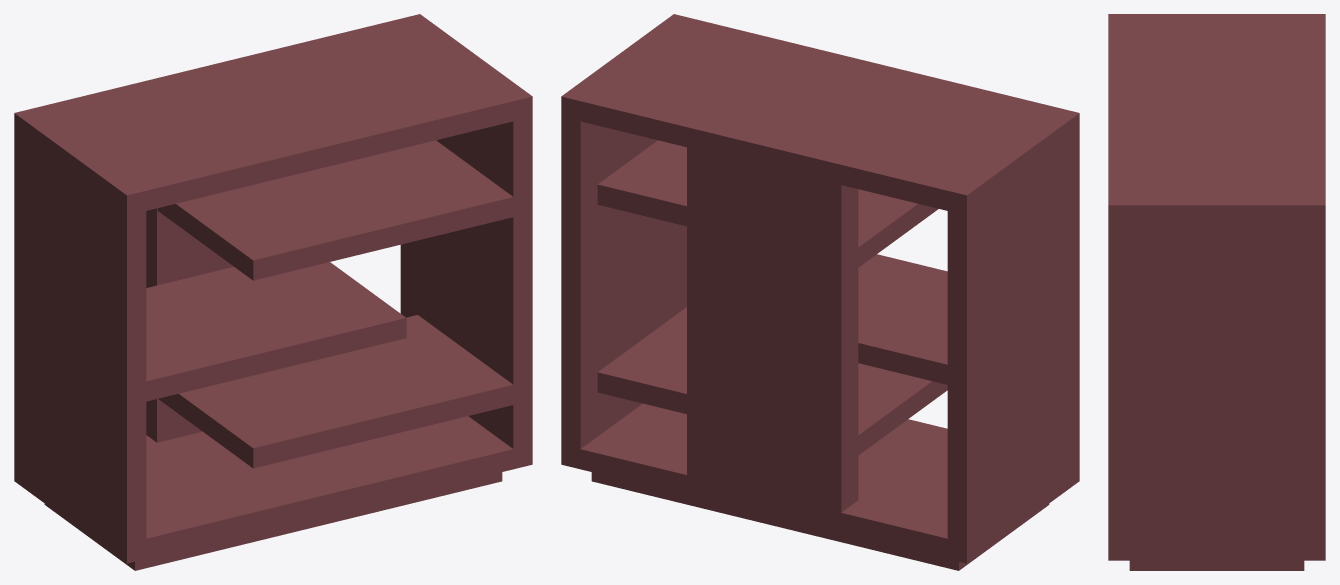
File: Shelf.FBX
The picture shows the model from 3 angles, left to right: view 1: azimuth 30°, elevation 25°; view 2: azimuth 150°, elevation 25°; view 3: azimuth 270°, elevation 25°; orthographic projection. The views are drawn at different scales.
Visible parts, largest first — view 1: Shelf_2; view 2: Shelf_2; view 3: Shelf_2.
Part boxes in pixels (<box>): Shelf_2: <box>14,14,532,570</box>; Shelf_2: <box>561,14,1079,570</box>; Shelf_2: <box>1108,14,1325,570</box>.
Size of the model in its own units: 1.38 by 1.27 by 0.6659.
